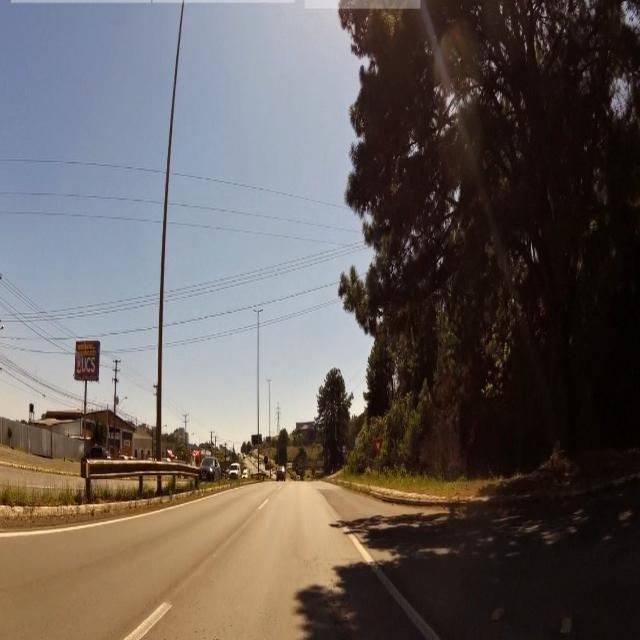R-2: (373, 438, 383, 456)
